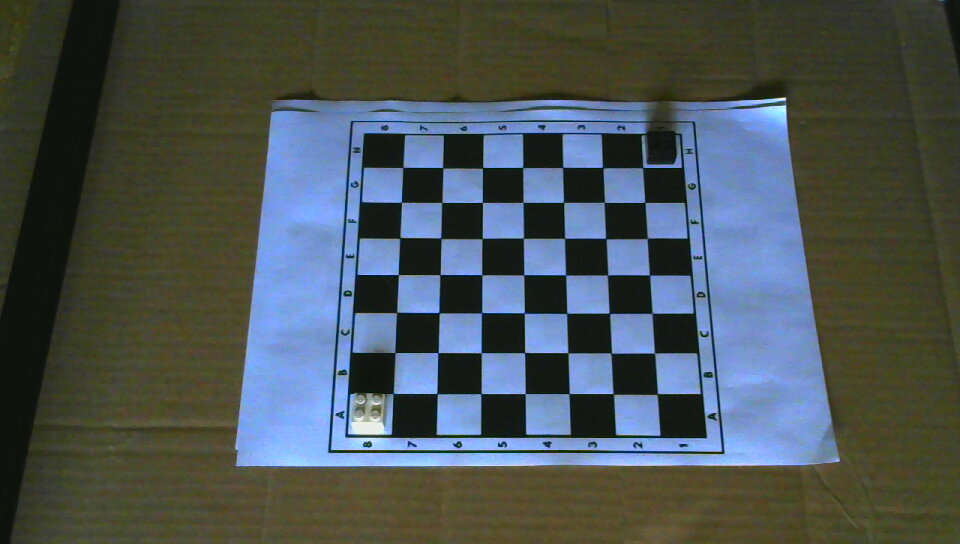bp: (643, 127, 679, 167)
wp: (349, 388, 388, 435)
